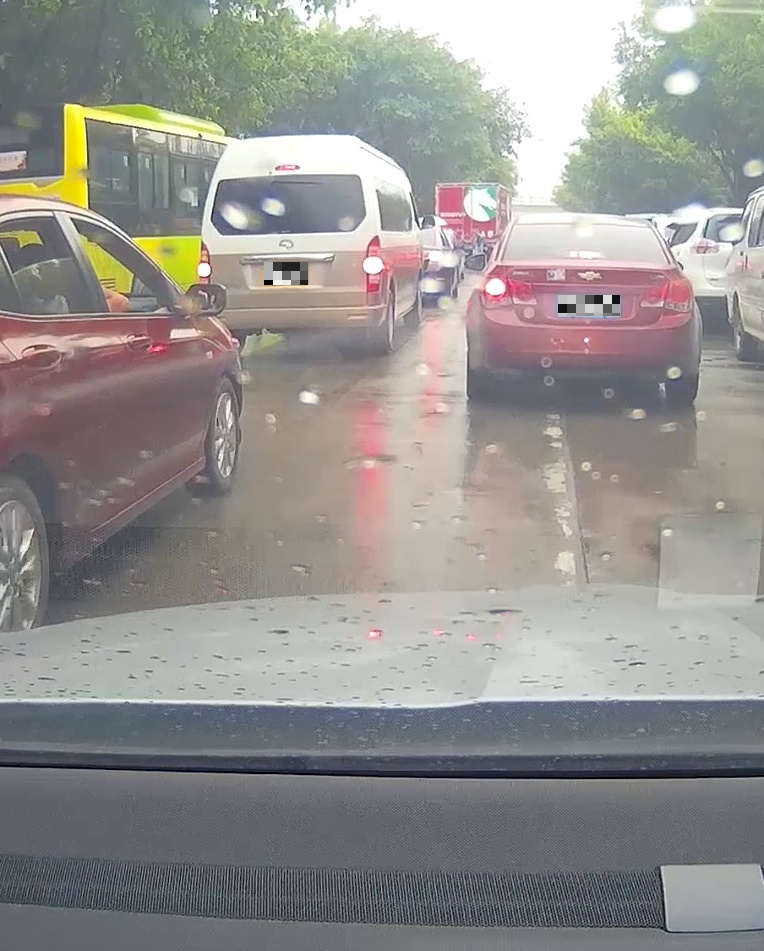L_light: (480, 275, 538, 308), (197, 241, 211, 291)
R_light: (639, 277, 694, 312), (362, 234, 382, 293)
T_light: (568, 250, 605, 258), (275, 164, 301, 171)
day-brake: (195, 135, 388, 356), (474, 214, 699, 403)
plate_1: (264, 262, 308, 285)
plate_2: (558, 295, 620, 316)
